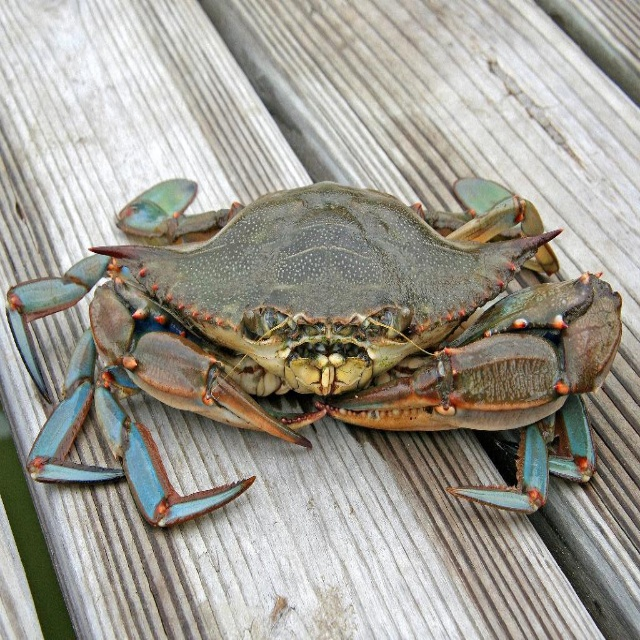Crab: (4, 177, 622, 533)
